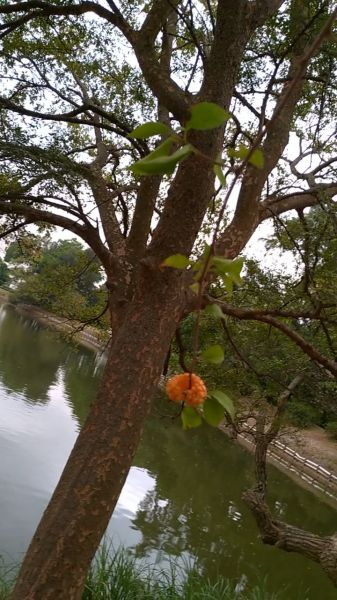eggs: (161, 362, 210, 415)
